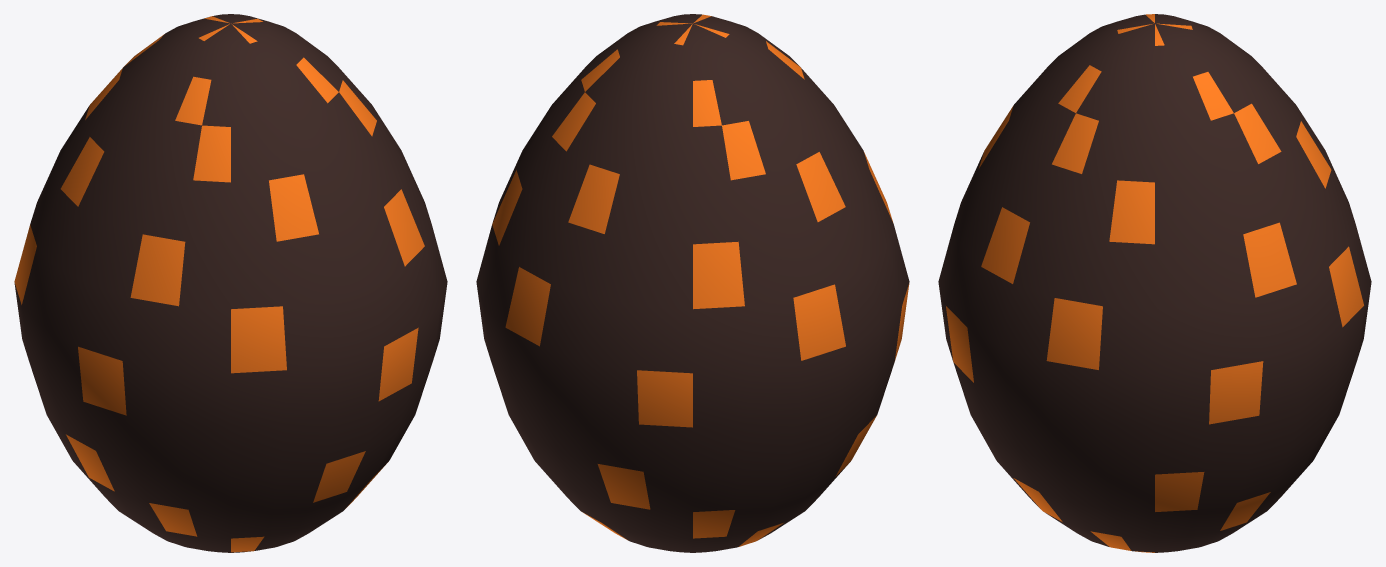
Rendered from Lava.glb.
The picture shows the model from 3 angles, left to right: view 1: azimuth 30°, elevation 25°; view 2: azimuth 150°, elevation 25°; view 3: azimuth 270°, elevation 25°; orthographic projection.
Parts seen in each view (by area): view 1: Lava; view 2: Lava; view 3: Lava.
Part boxes in pixels (left/top/right/bottom): Lava: left=14, top=14, right=447, bottom=552; Lava: left=476, top=14, right=909, bottom=552; Lava: left=938, top=14, right=1371, bottom=552.
Size of the model in its own units: 3.04 by 4 by 3.04.
Materials: 1 (1 with a texture image).
